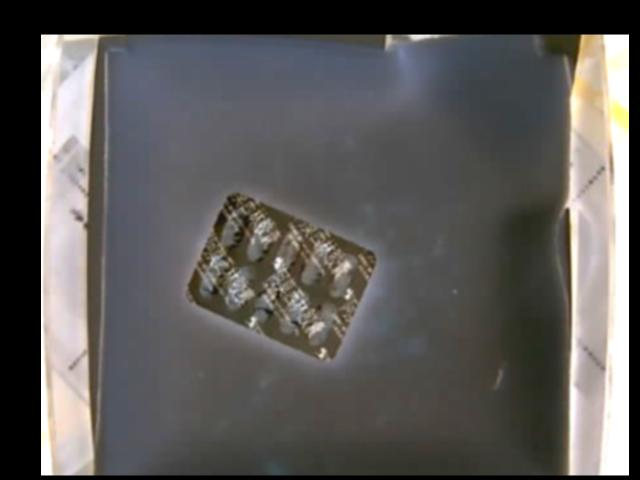Medicine: (187, 190, 376, 361)
